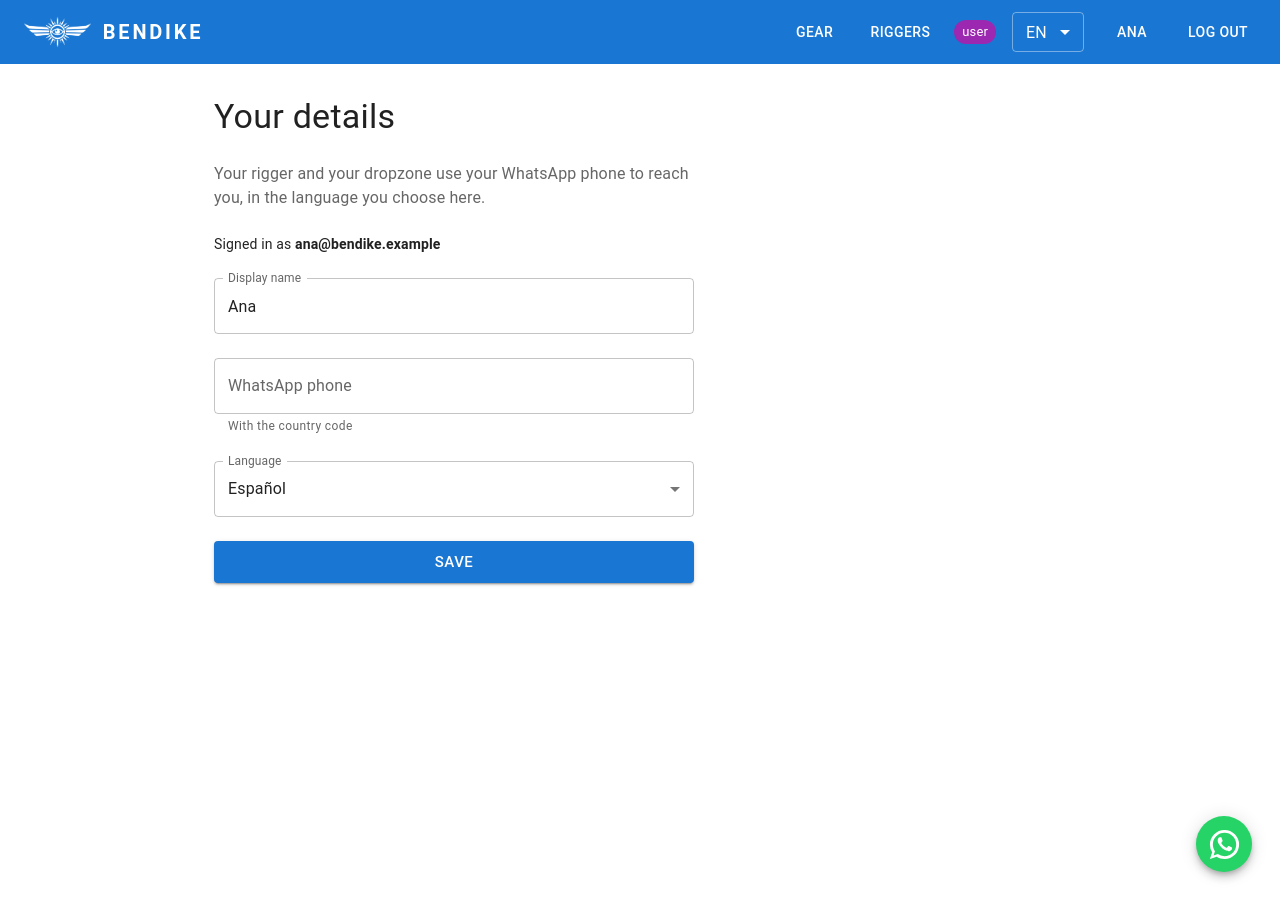
ProfilePage › a phone without the country code is refused before any request
This screenshot has width=1280, height=900.
Step 1. Type "341 555 0000" into the field labelled "WhatsApp phone" → (454, 386), box [214, 358, 694, 414]
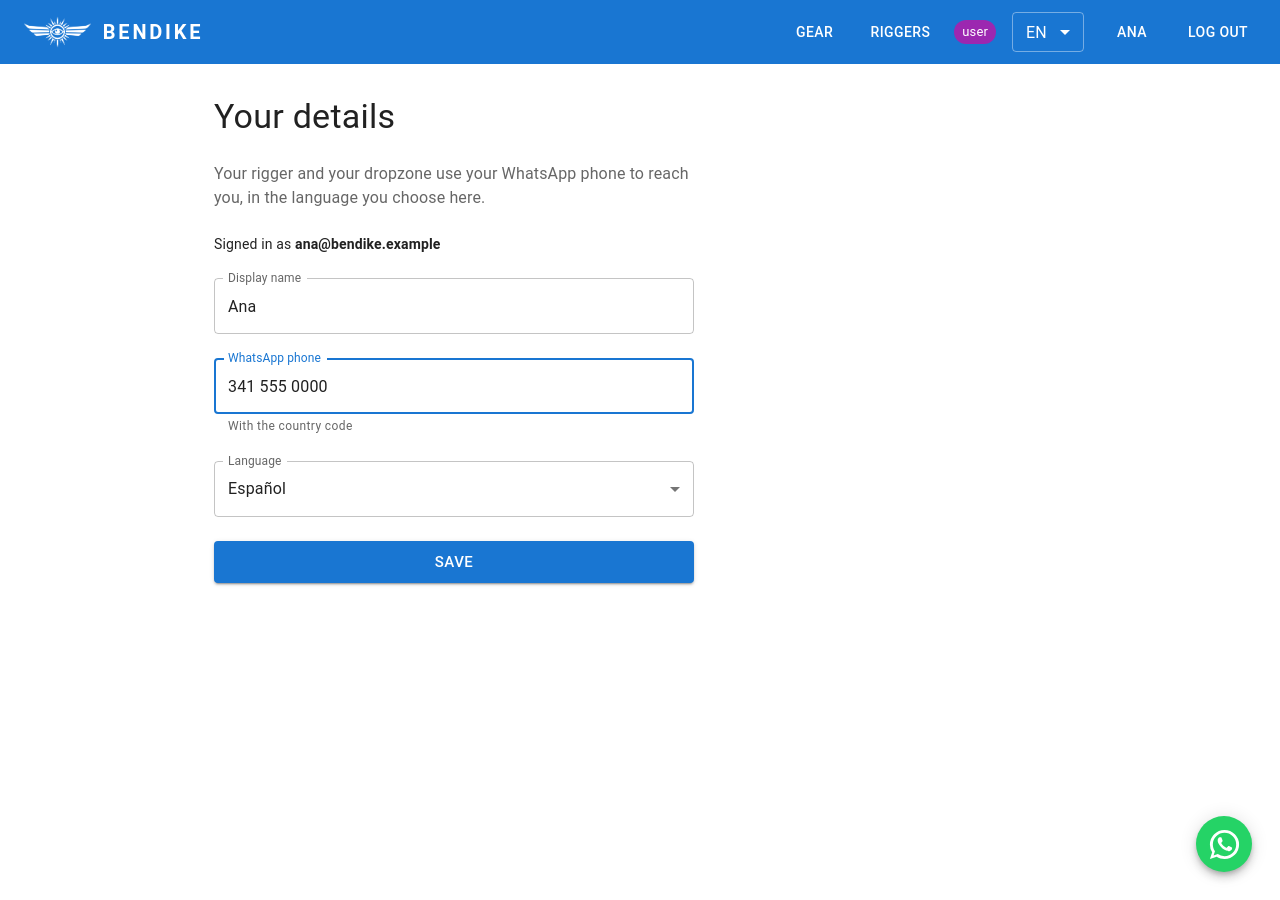
Step 2. Click the button "Save" → click(454, 562), box [214, 541, 694, 583]
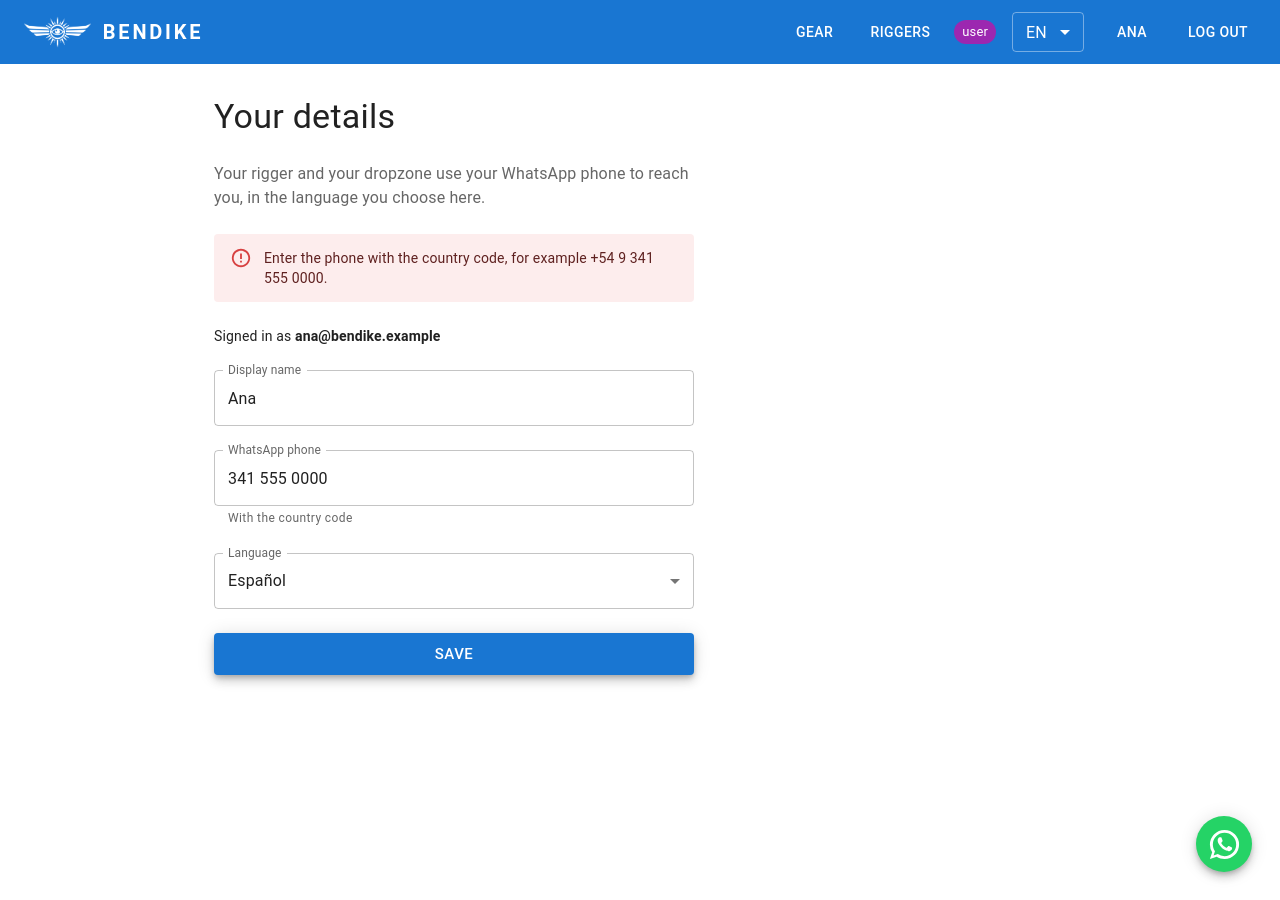
Check: the message shows "country code", box [264, 250, 654, 286]
